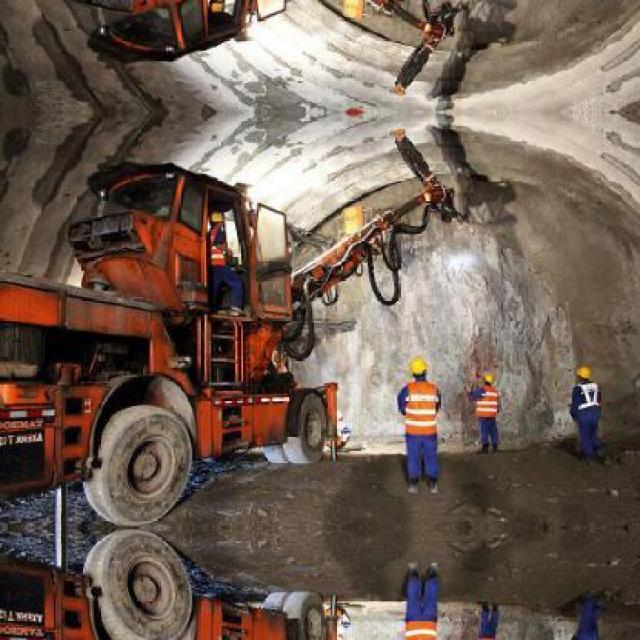Reflective-Jacket: (400, 378, 443, 438), (203, 226, 235, 271), (568, 383, 606, 420), (474, 388, 501, 422)
Safety-Helmet: (571, 360, 597, 385), (408, 354, 432, 378), (208, 209, 226, 226), (481, 370, 497, 388)
